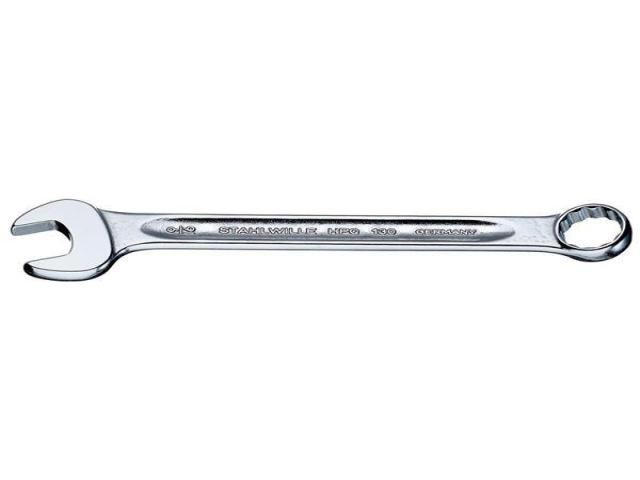Wrench: (11, 200, 631, 280)
